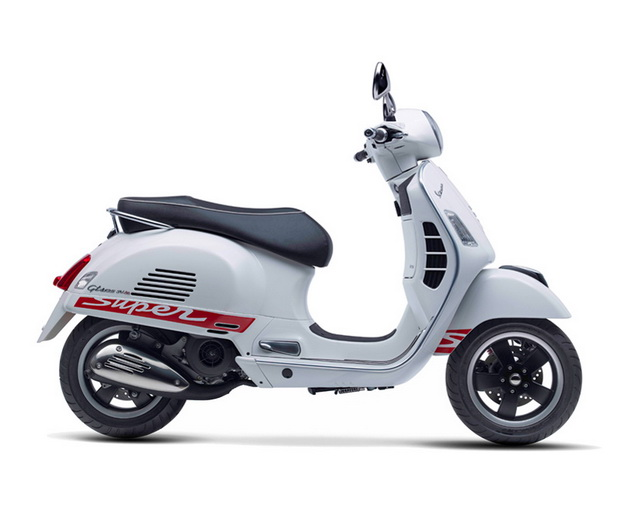motorcycle: (51, 104, 581, 443)
